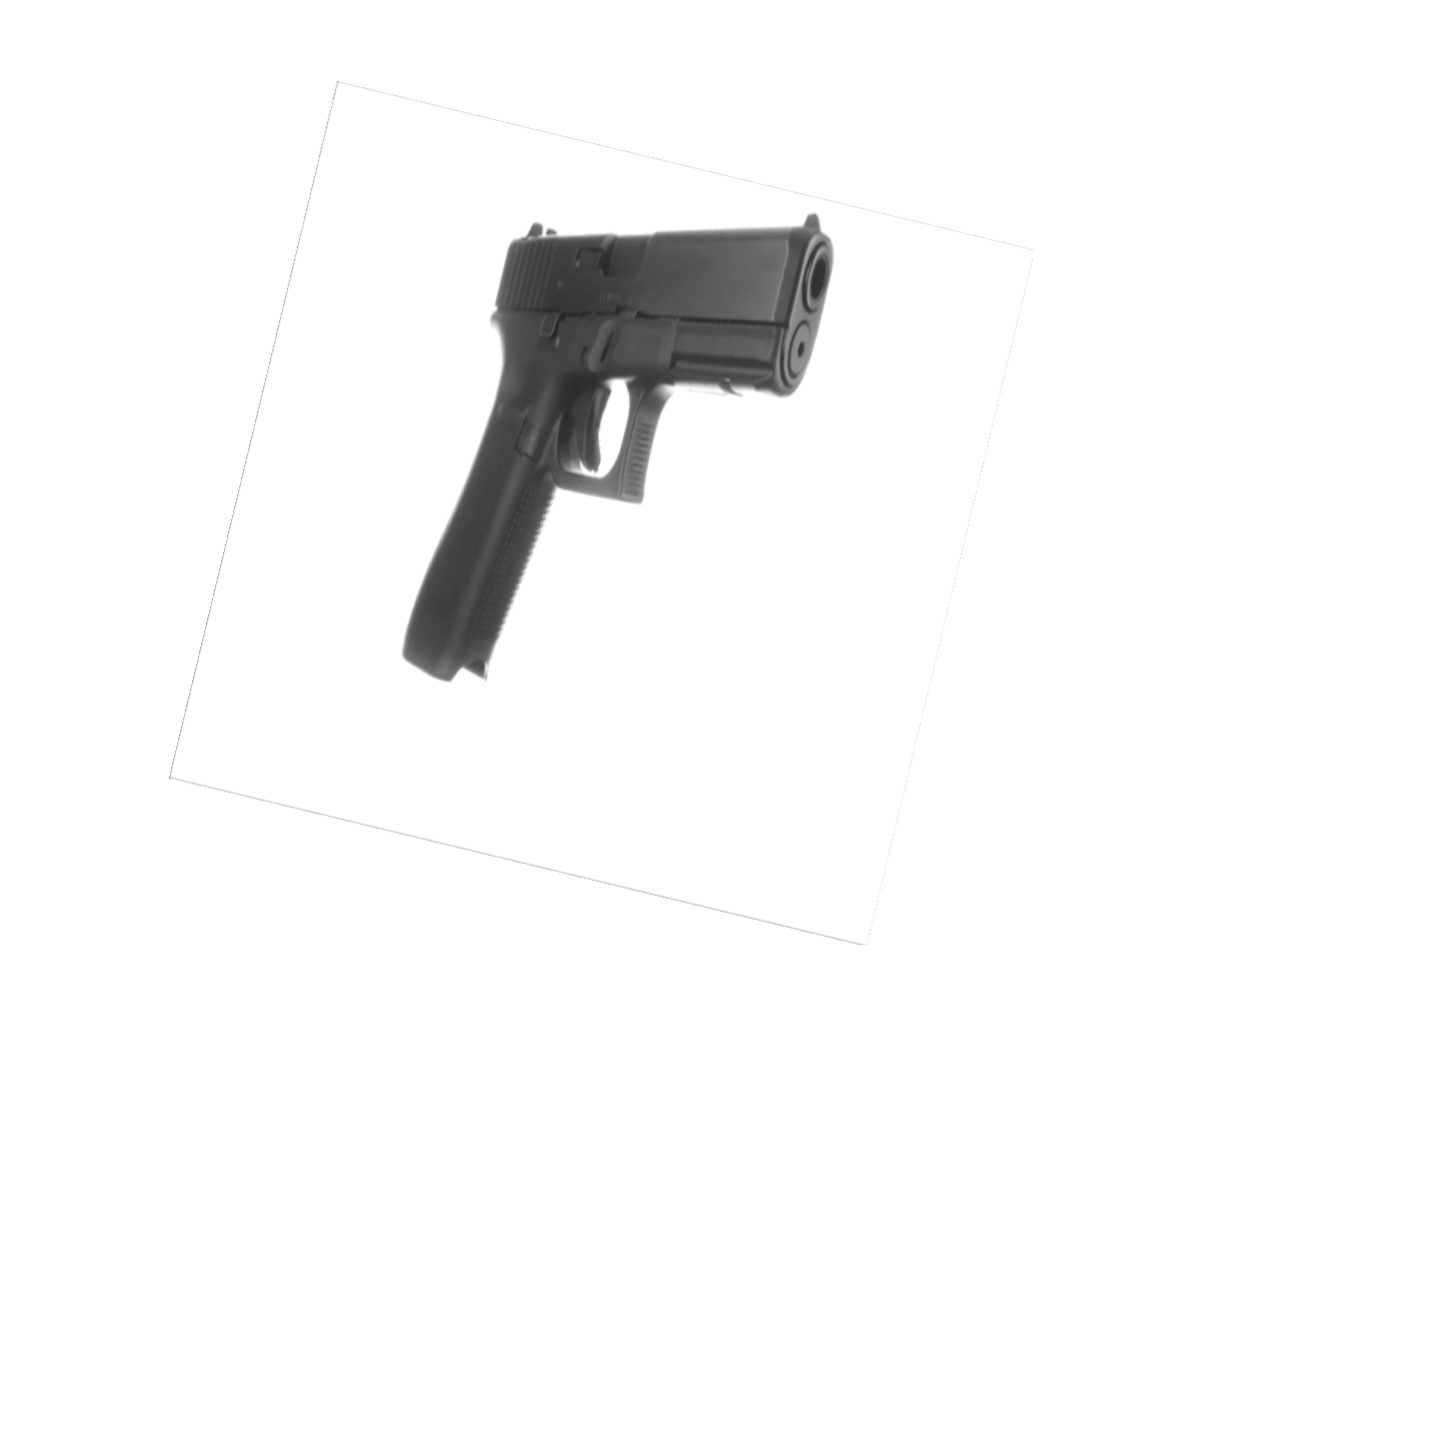gun: (396, 205, 843, 686)
